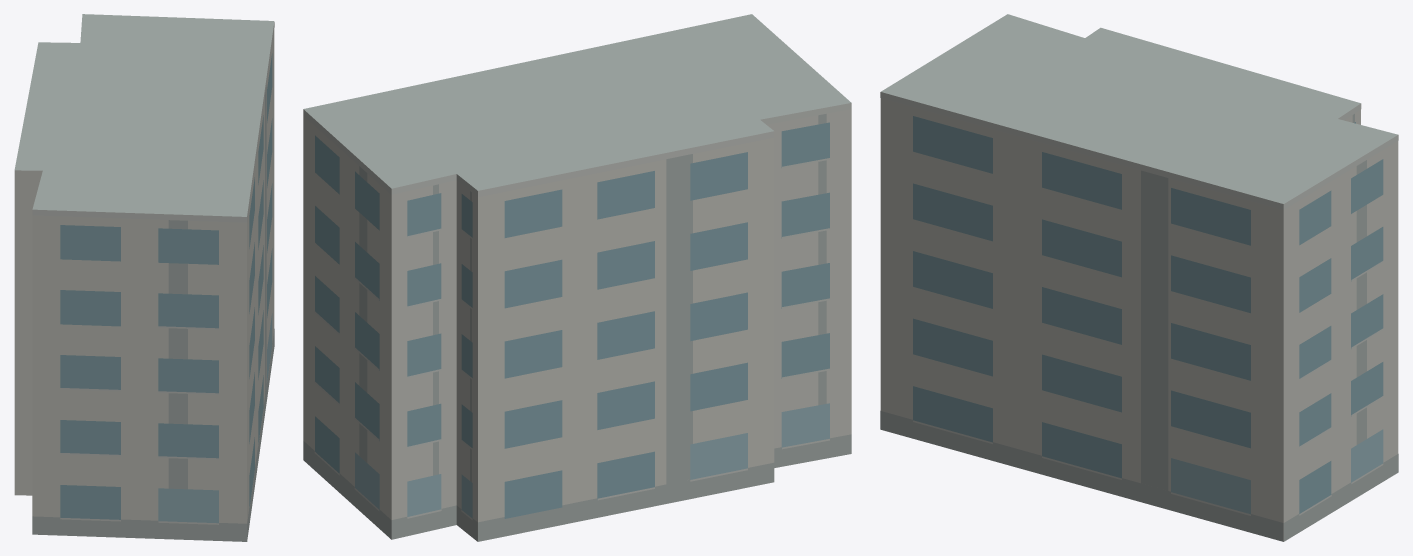
File: survey-upis-32828561.glb
3 renders of one model, left to right at view 1: azimuth 30°, elevation 25°; view 2: azimuth 150°, elevation 25°; view 3: azimuth 270°, elevation 25°, orthographic. The views are drawn at different scales.
Visible parts, largest first — view 1: survey-upis-32828561.tmp; view 2: survey-upis-32828561.tmp; view 3: survey-upis-32828561.tmp.
Boxes of the visible parts, x1,y1,x2,y2 form: survey-upis-32828561.tmp: [14, 14, 274, 541]; survey-upis-32828561.tmp: [303, 14, 851, 541]; survey-upis-32828561.tmp: [880, 14, 1398, 541].
Bounding box in the file's own units: 16.43 × 13.6 × 18.91.
